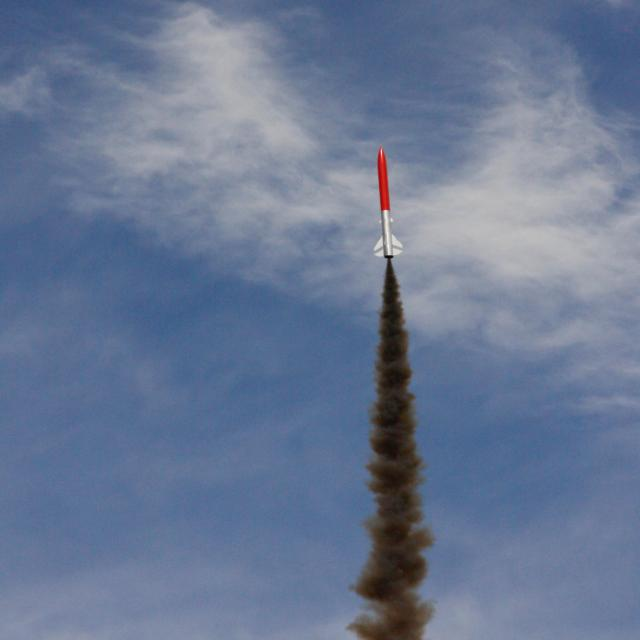Rocket: (372, 144, 404, 260)
